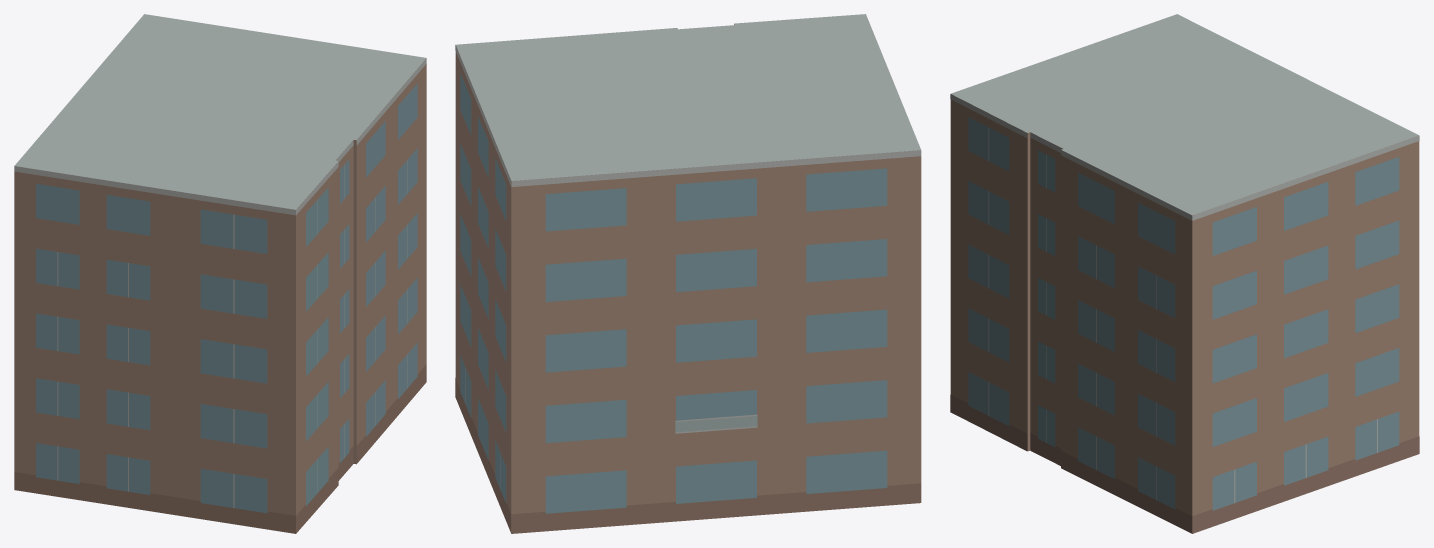
Rendered from survey-upis-32973895.glb.
3 renders of one model, left to right at view 1: azimuth 30°, elevation 25°; view 2: azimuth 150°, elevation 25°; view 3: azimuth 270°, elevation 25°, orthographic. The views are drawn at different scales.
Parts seen in each view (by area): view 1: survey-upis-32973895.tmp; view 2: survey-upis-32973895.tmp; view 3: survey-upis-32973895.tmp.
Boxes of the visible parts, x1,y1,x2,y2 form: survey-upis-32973895.tmp: [14, 14, 426, 533]; survey-upis-32973895.tmp: [455, 14, 921, 533]; survey-upis-32973895.tmp: [950, 14, 1419, 533].
Bounding box in the file's own units: 19.41 × 14.3 × 19.1.
